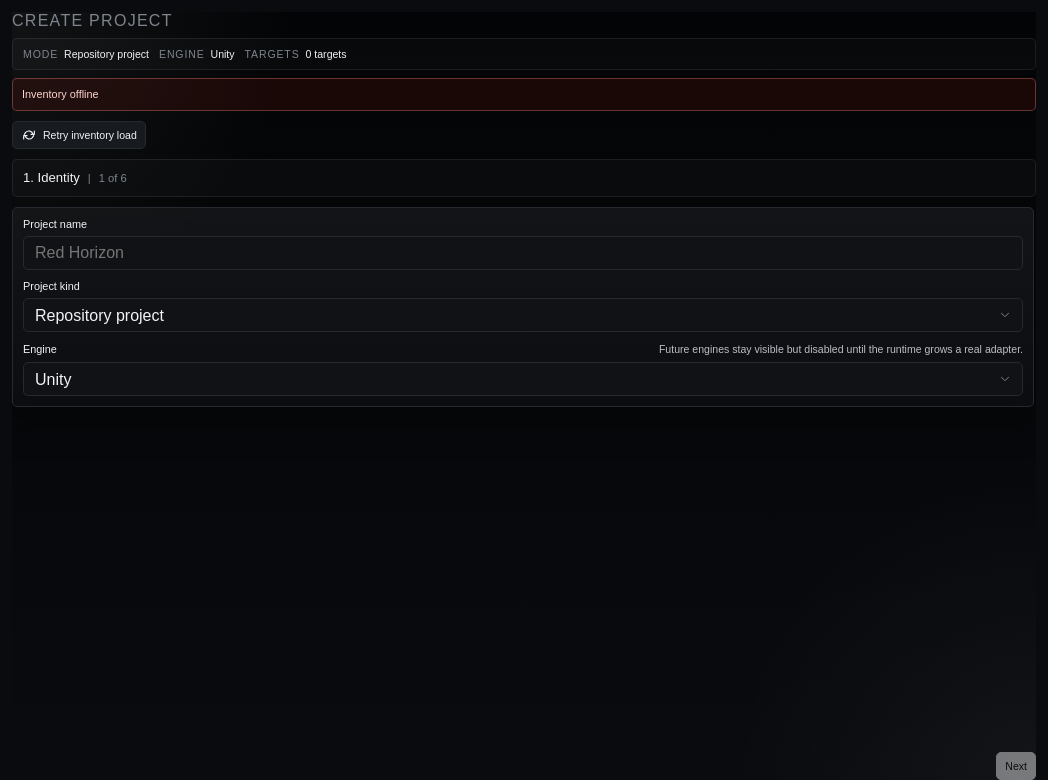
Test: CreateProjectWizard › shows a retryable inventory failure and blocks advancement until it recovers
Expected: the text "Inventory offline" is shown, [12,78,1036,112]
Expected: the button "Next" is disabled, [996,752,1036,779]
Click the button "Retry inventory load": {"x": 79, "y": 136} [12,122,146,150]
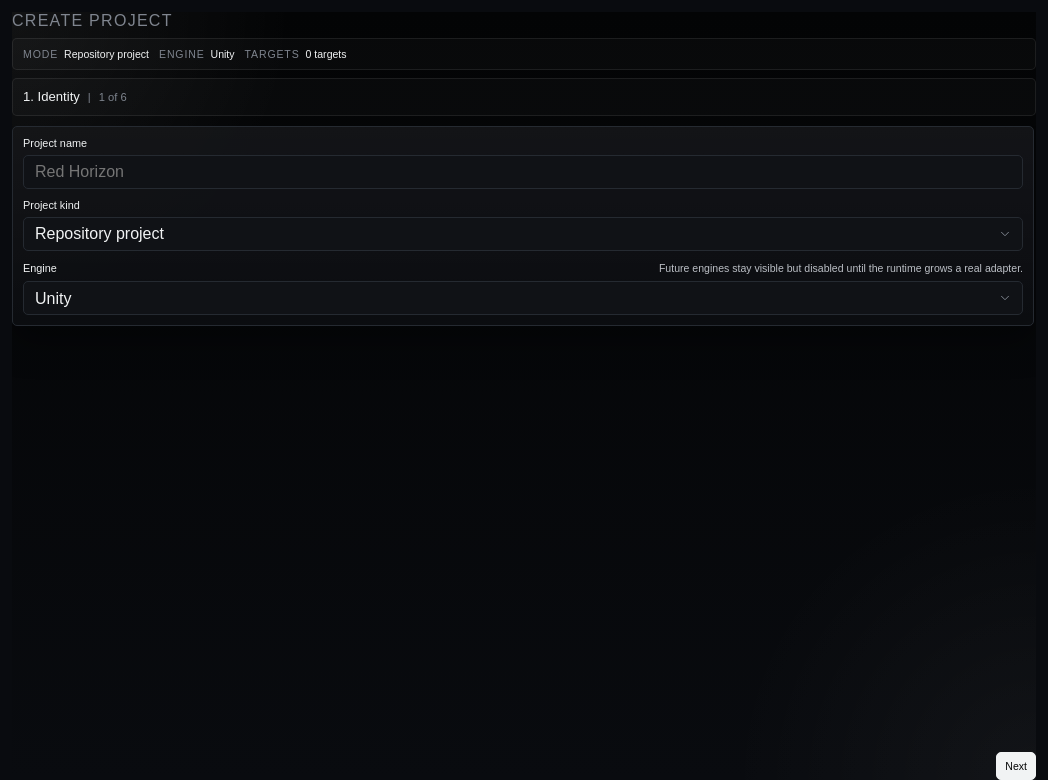
Expected: the button "Next" is enabled, [996,752,1036,779]
